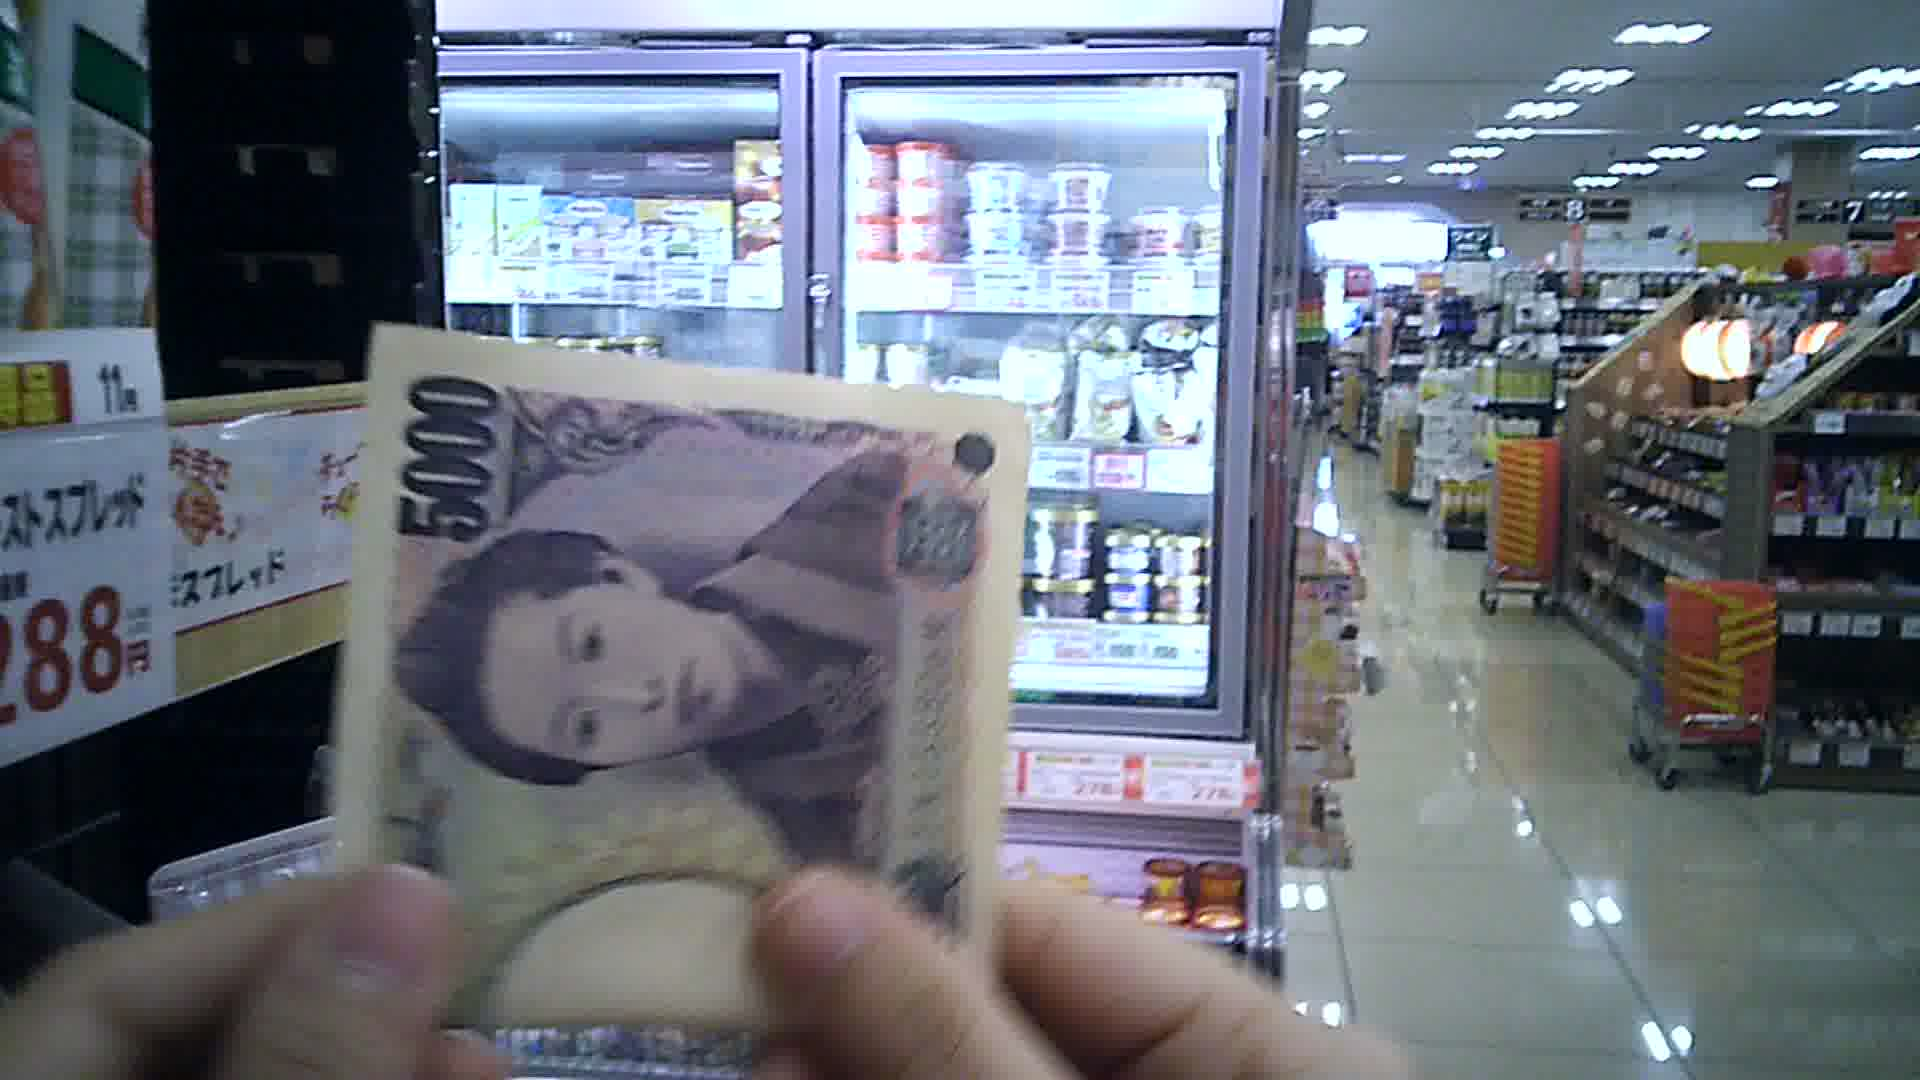5,000 Yen: (299, 314, 1040, 1058)
